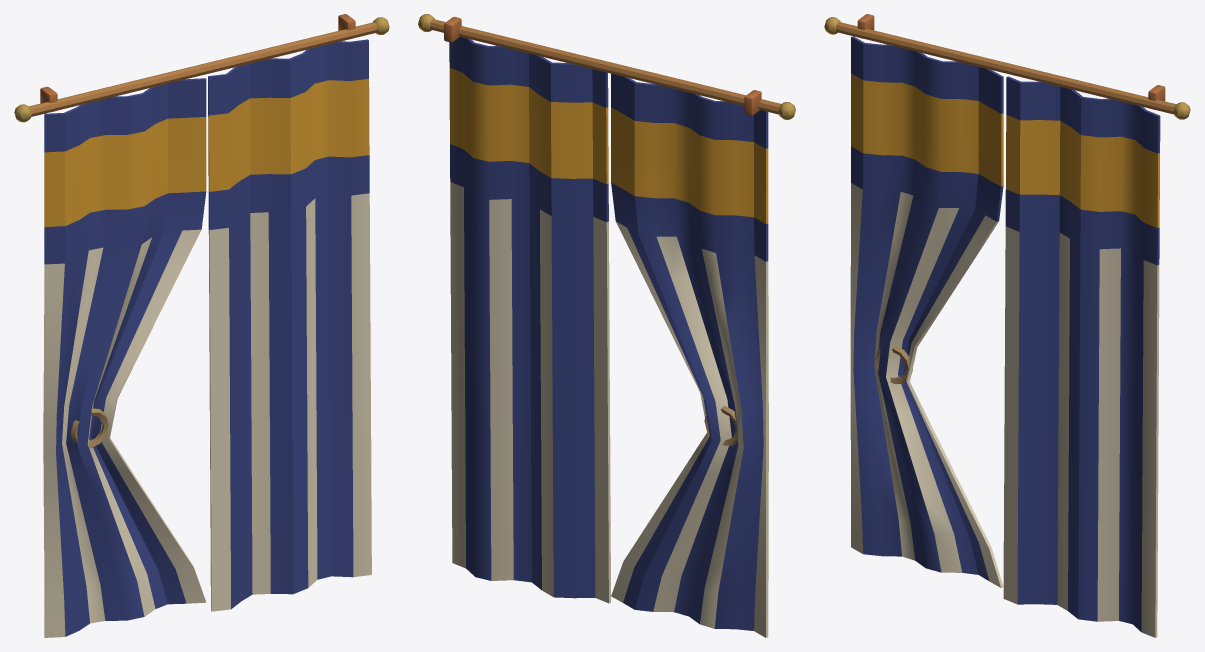
The model's file is deco_door_curtain_fabric.fbx.
3 renders of one model, left to right at view 1: azimuth 30°, elevation 25°; view 2: azimuth 150°, elevation 25°; view 3: azimuth 330°, elevation 25°, orthographic. The views are drawn at different scales.
Parts seen in each view (by area): view 1: DoorCurtain_Fabric_PanelRight, DoorCurtain_Fabric_PanelLeft, DoorCurtain_Fabric_Rod; view 2: DoorCurtain_Fabric_PanelRight, DoorCurtain_Fabric_PanelLeft, DoorCurtain_Fabric_Rod; view 3: DoorCurtain_Fabric_PanelRight, DoorCurtain_Fabric_PanelLeft, DoorCurtain_Fabric_Rod.
Boxes of the visible parts, x1=… form: DoorCurtain_Fabric_PanelRight: x1=208, y1=39, x2=371, y2=611; DoorCurtain_Fabric_PanelLeft: x1=43, y1=78, x2=206, y2=637; DoorCurtain_Fabric_Rod: x1=14, y1=14, x2=389, y2=122; DoorCurtain_Fabric_PanelRight: x1=449, y1=37, x2=610, y2=603; DoorCurtain_Fabric_PanelLeft: x1=611, y1=73, x2=768, y2=637; DoorCurtain_Fabric_Rod: x1=418, y1=14, x2=795, y2=119; DoorCurtain_Fabric_PanelRight: x1=1003, y1=76, x2=1160, y2=637; DoorCurtain_Fabric_PanelLeft: x1=850, y1=36, x2=1003, y2=587; DoorCurtain_Fabric_Rod: x1=824, y1=14, x2=1190, y2=119.
Bounding box in the file's own units: 213 × 300 × 18.34.
